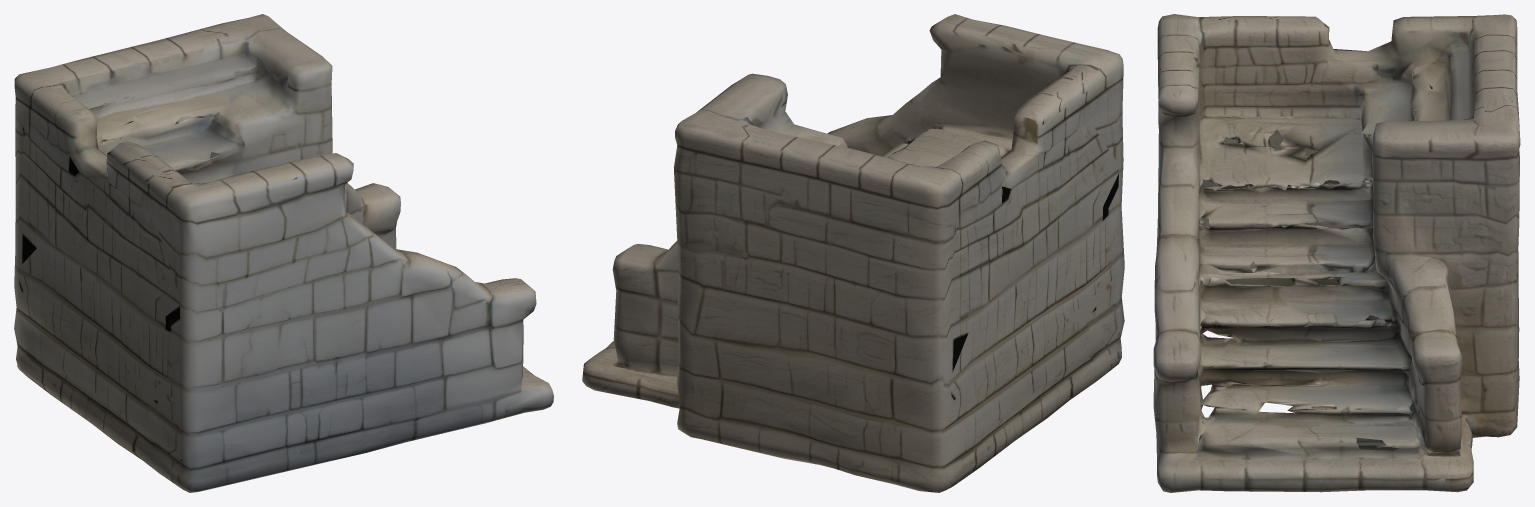
Rendered from stager case V ttun.fbx.
3 views of the same model, side by side, from view 1: azimuth 30°, elevation 25°; view 2: azimuth 150°, elevation 25°; view 3: azimuth 270°, elevation 25° (orthographic). The views are drawn at different scales.
Visible parts, largest first — view 1: tripo_node_f3881601; view 2: tripo_node_f3881601; view 3: tripo_node_f3881601.
Boxes of the visible parts, box(x1,y1,x2,y2) form: tripo_node_f3881601: box(14, 14, 553, 492); tripo_node_f3881601: box(582, 14, 1124, 492); tripo_node_f3881601: box(1153, 14, 1520, 492).
Bounding box in the file's own units: 99.61 × 76.66 × 83.99.
1 material, 1 textured.
